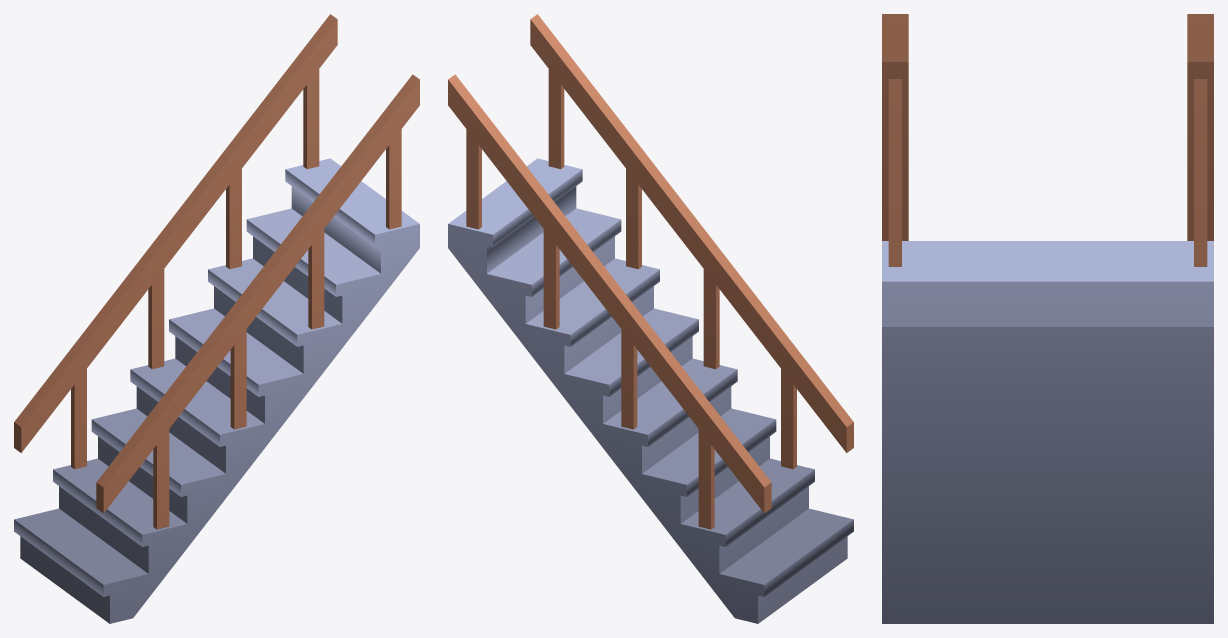
The model's file is stairs-stone-handrail.glb.
3 views of the same model, side by side, from view 1: azimuth 30°, elevation 25°; view 2: azimuth 150°, elevation 25°; view 3: azimuth 270°, elevation 25° (orthographic). The views are drawn at different scales.
Parts seen in each view (by area): view 1: stairs-stone-handrail; view 2: stairs-stone-handrail; view 3: stairs-stone-handrail.
Boxes of the visible parts, <box> form: stairs-stone-handrail: <box>14,14,419,623</box>; stairs-stone-handrail: <box>448,14,853,623</box>; stairs-stone-handrail: <box>882,14,1213,623</box>.
Size of the model in its own units: 1.02 by 1.45 by 0.5.
1 material, 1 textured.
